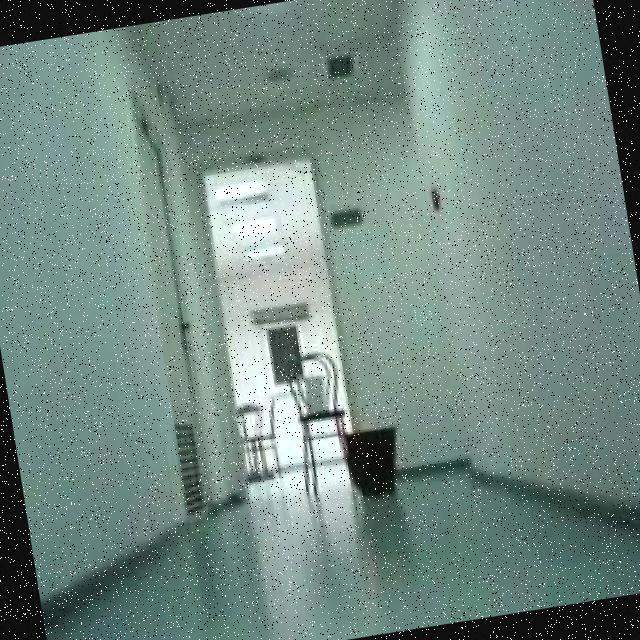Fire: (337, 415, 360, 436)
